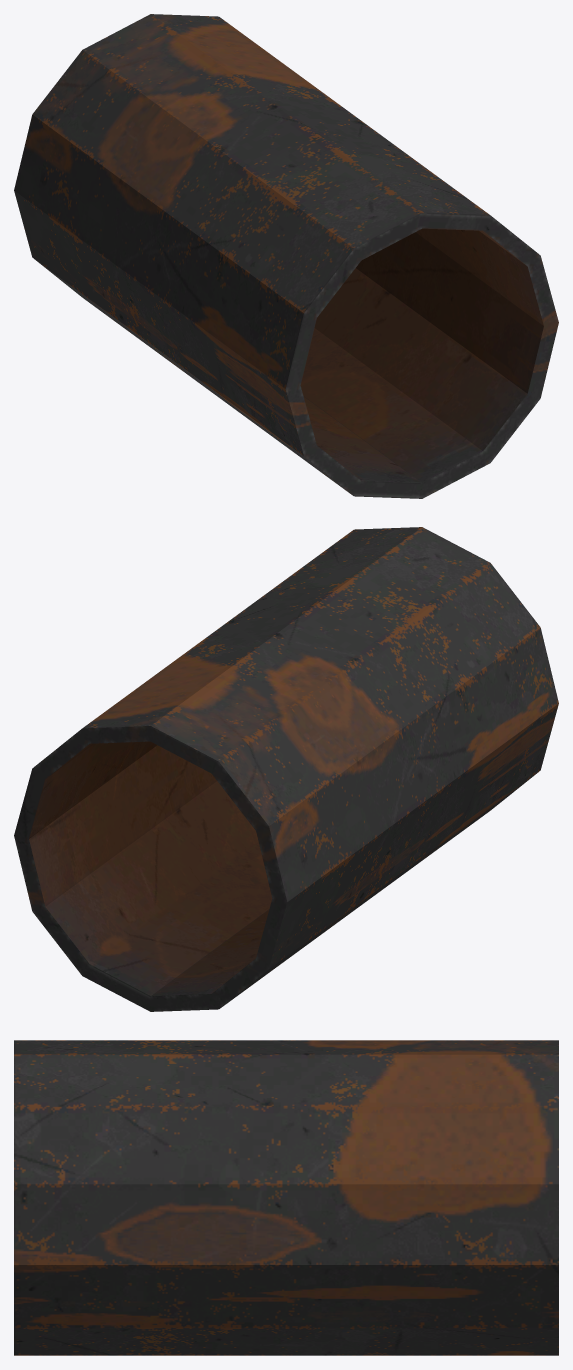
The model's file is SteelPipe.glb.
The picture shows the model from 3 angles, top to bottom: view 1: azimuth 30°, elevation 25°; view 2: azimuth 150°, elevation 25°; view 3: azimuth 270°, elevation 25°; orthographic projection.
Parts seen in each view (by area): view 1: SteelPipe; view 2: SteelPipe; view 3: SteelPipe.
Boxes of the visible parts, bbox=[...] form: SteelPipe: bbox=[14, 14, 558, 498]; SteelPipe: bbox=[14, 527, 558, 1011]; SteelPipe: bbox=[14, 1040, 558, 1355].
Size of the model in its own units: 0.3711 by 0.3711 by 0.6387.
Materials: 1 (1 with a texture image).
